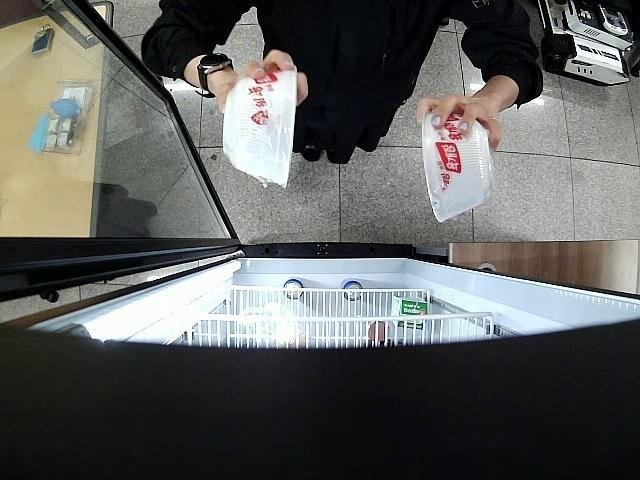09_yukGaeJang: (220, 68, 298, 188), (418, 102, 494, 222)
